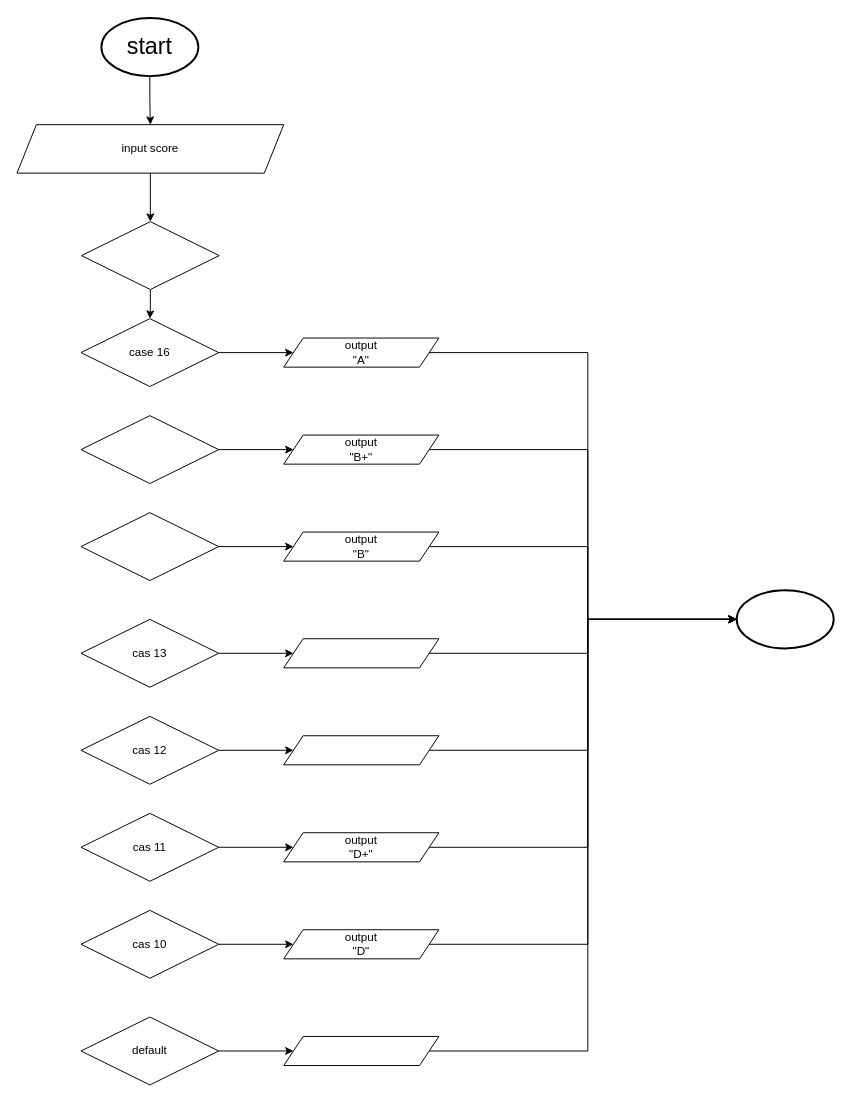
This 852x1102 diagram has some shape labels left out. Here are the shapes that lost their labels. From the top down, the centre of each, then its label:
(x=150, y=255): switch (score / 5)
(x=149, y=449): case 15
(x=149, y=546): case 14
(x=784, y=619): end
(x=361, y=653): output "C+"
(x=361, y=750): output "C"
(x=361, y=1050): output "F"
